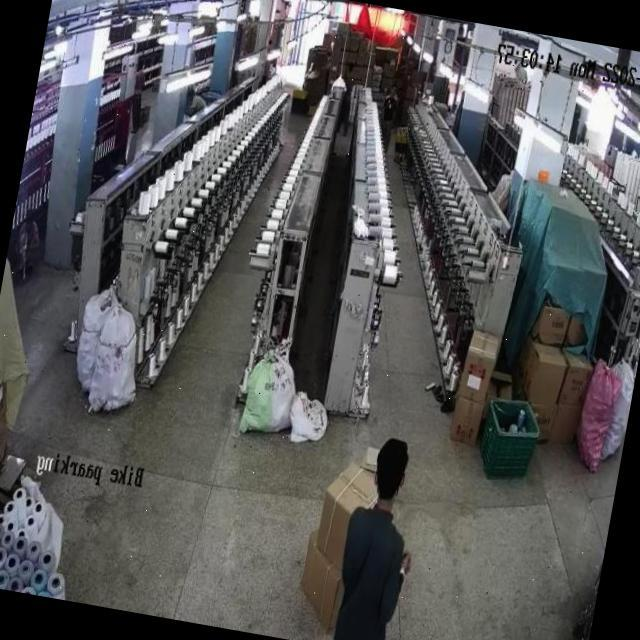person: (327, 431, 422, 640), (379, 86, 397, 140)
